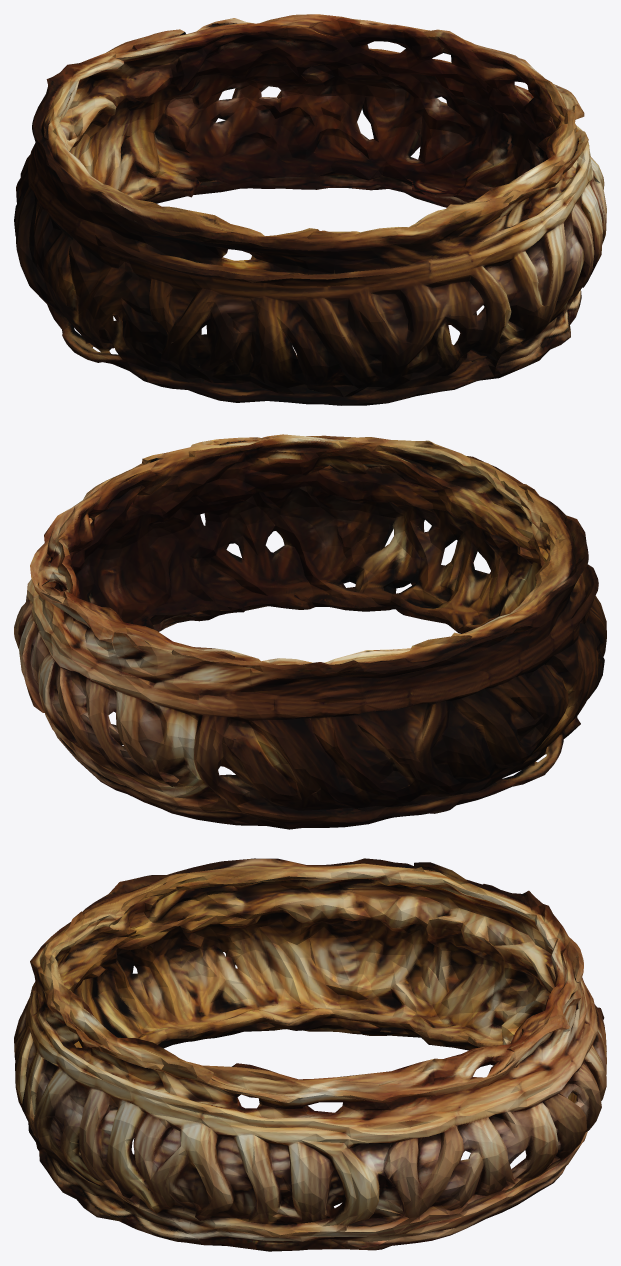
File: hemp-woven-bracelet-vintage.jpeg.glb
3 renders of one model, top to bottom at view 1: azimuth 30°, elevation 25°; view 2: azimuth 150°, elevation 25°; view 3: azimuth 270°, elevation 25°, orthographic.
Visible parts, largest first — view 1: world; view 2: world; view 3: world.
Part boxes in pixels (bbox=[...]): world: bbox=[14, 14, 606, 405]; world: bbox=[14, 434, 606, 829]; world: bbox=[14, 858, 606, 1251].
Bounding box in the file's own units: 0.9975 × 0.3477 × 0.9981.
Materials: 1 (1 with a texture image).
